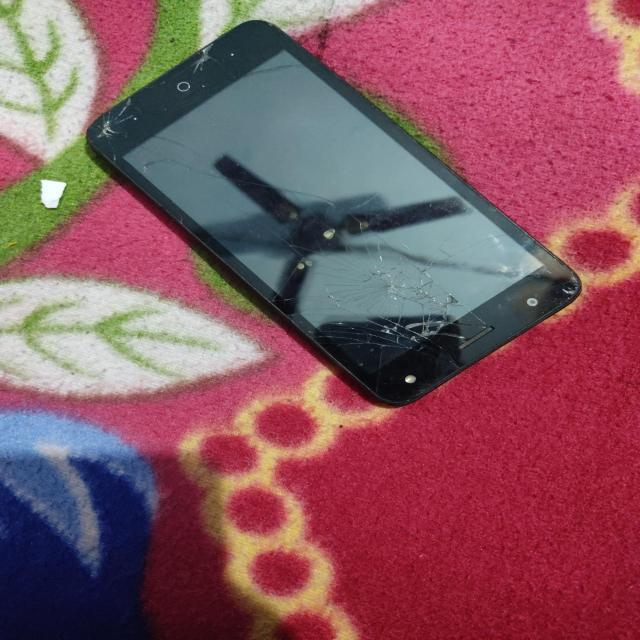phone: (16, 35, 604, 392)
